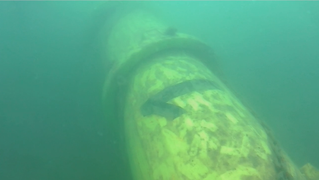1: (139, 79, 226, 121)
pipe: (99, 1, 319, 180)
